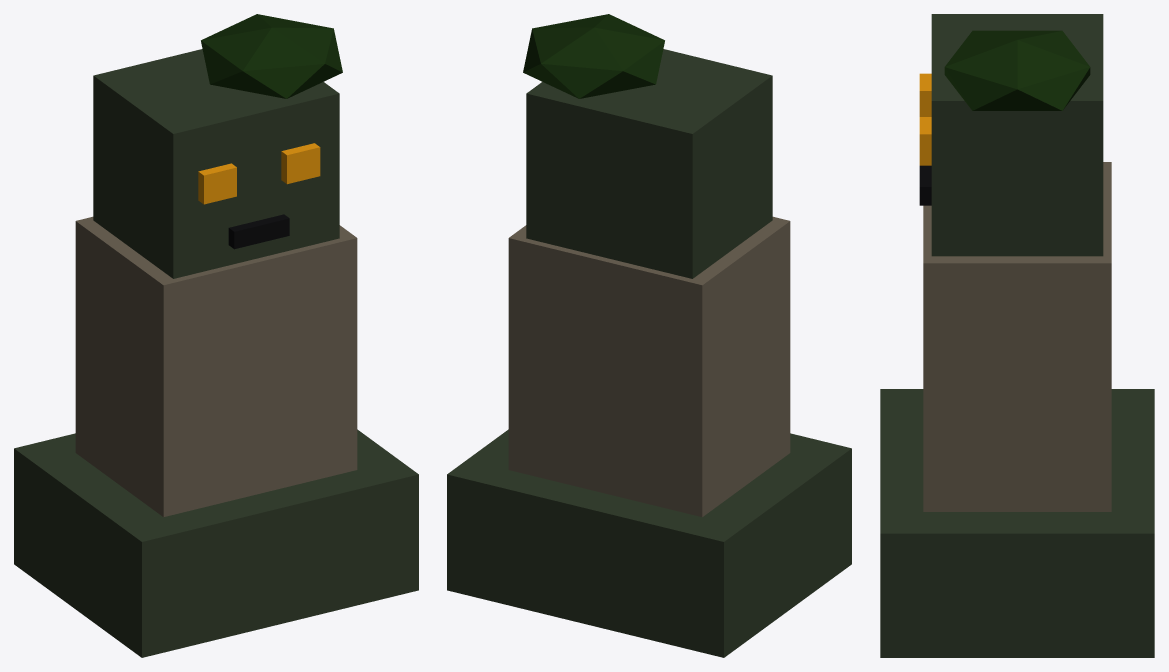
File: stone_idol.obj
3 renders of one model, left to right at view 1: azimuth 30°, elevation 25°; view 2: azimuth 150°, elevation 25°; view 3: azimuth 270°, elevation 25°, orthographic. The views are drawn at different scales.
Visible parts, largest first — view 1: stone_idol; view 2: stone_idol; view 3: stone_idol.
Boxes of the visible parts, bbox=[...] form: stone_idol: bbox=[14, 14, 418, 657]; stone_idol: bbox=[447, 14, 851, 657]; stone_idol: bbox=[880, 14, 1154, 657].
Size of the model in its own units: 1 by 1.85 by 0.8.
